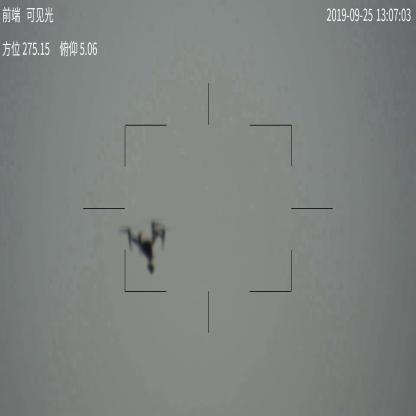uav: (120, 221, 172, 276)
